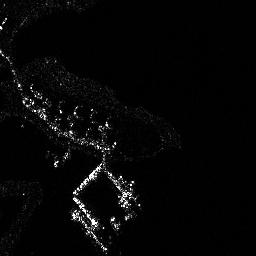ship: (70, 208, 109, 253), (110, 200, 144, 231)
